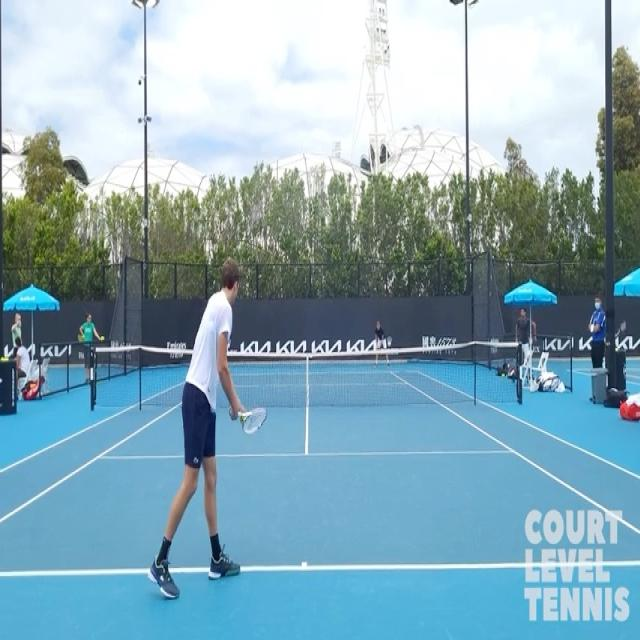serve_ready: (147, 254, 269, 605)
